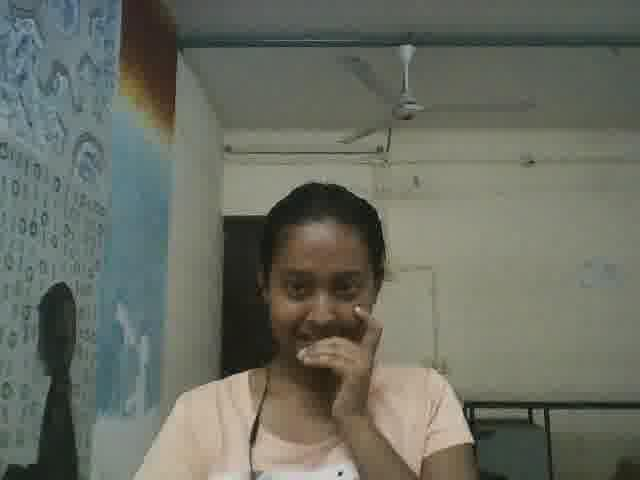bingung: (266, 225, 374, 373)
